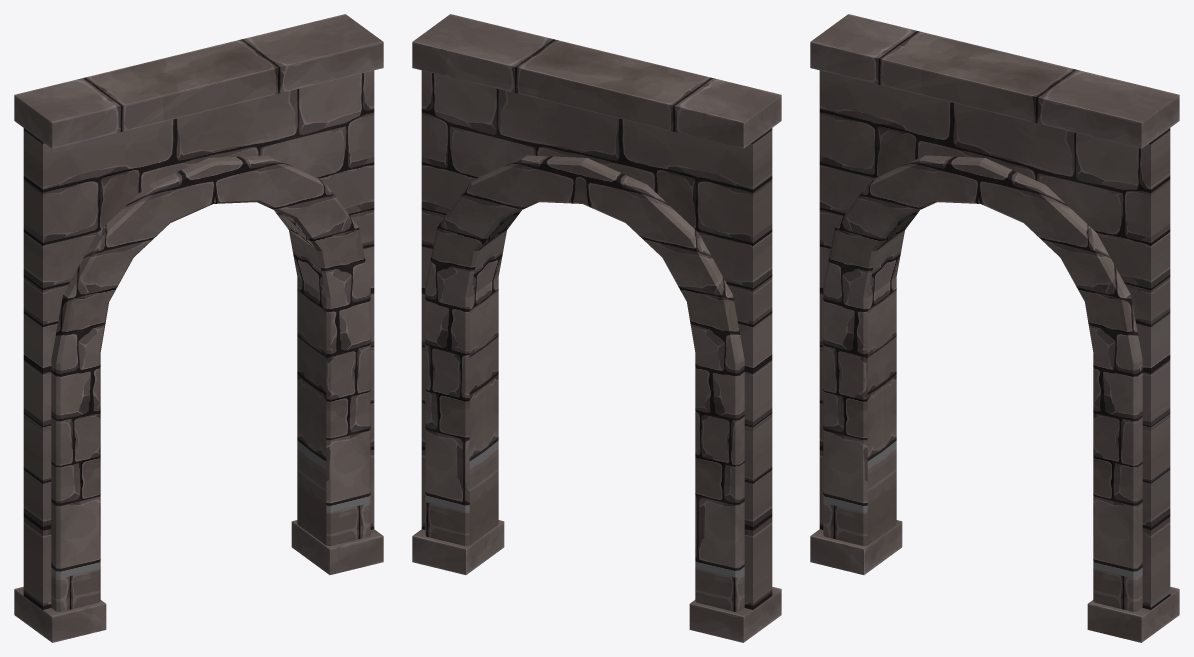
File: WallEntrance.fbx
3 views of the same model, side by side, from view 1: azimuth 30°, elevation 25°; view 2: azimuth 150°, elevation 25°; view 3: azimuth 330°, elevation 25° (orthographic).
Parts seen in each view (by area): view 1: Wall_Entrance; view 2: Wall_Entrance; view 3: Wall_Entrance.
Boxes of the visible parts, bbox=[...] form: Wall_Entrance: bbox=[14, 14, 383, 642]; Wall_Entrance: bbox=[412, 14, 781, 642]; Wall_Entrance: bbox=[810, 14, 1179, 642].
Bounding box in the file's own units: 200 × 300 × 40.
